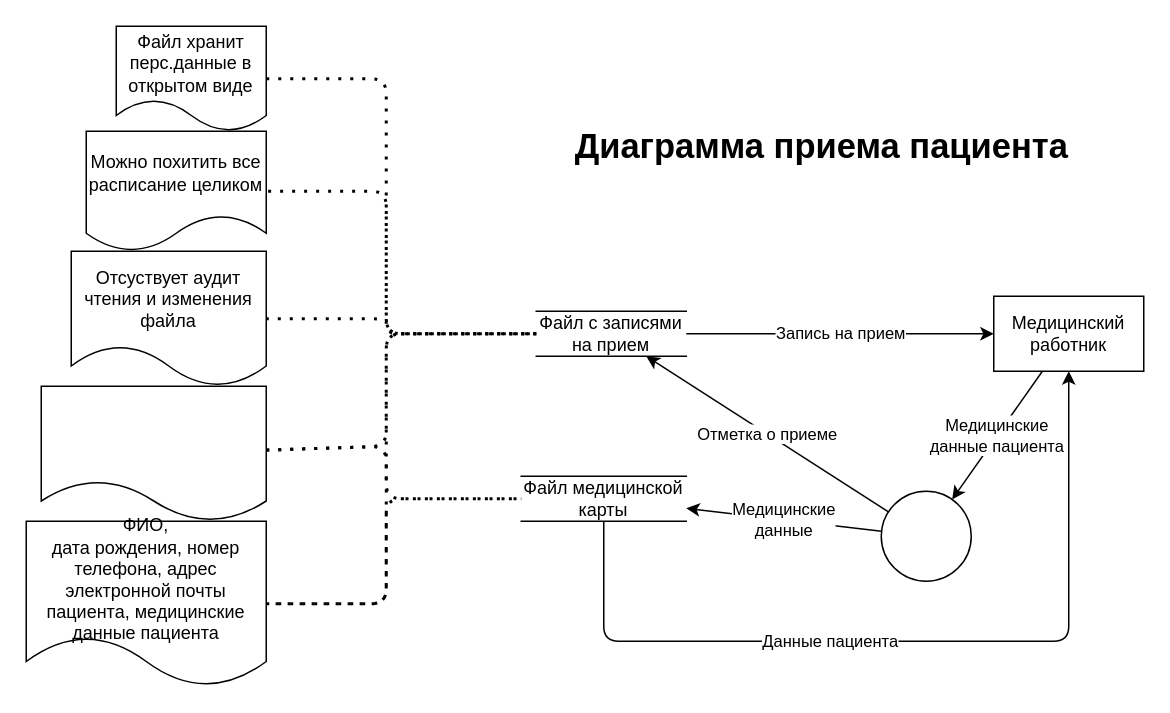
The diagram is 1170 pixels wide and 713 high, and some of its shapes have lost their labels. Here are the shapes that lost their labels. From the top down, the centre of each, then its label:
At (153,453): "Файл не защищен от изменения другими сотрудниками".
At (925,535): "Прием пациента".
